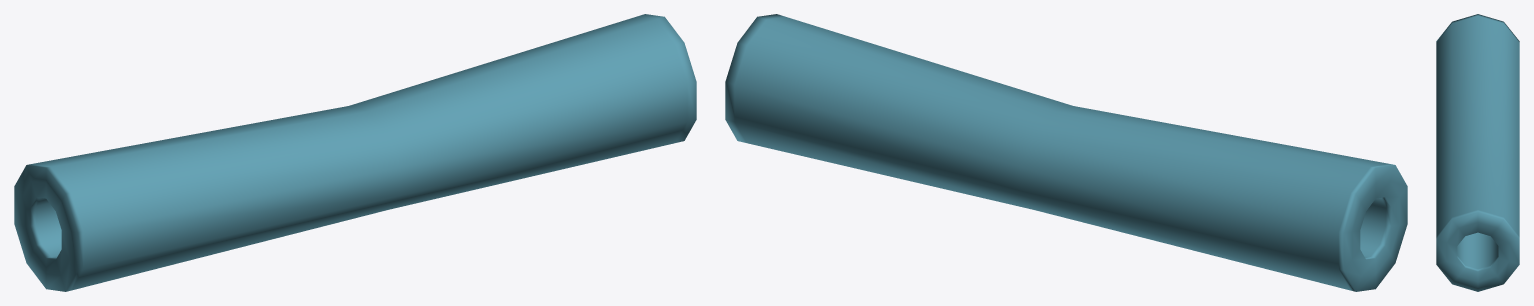
The model's file is Mod_RouleauTissus_LO_V2_JT.fbx.
3 views of the same model, side by side, from view 1: azimuth 30°, elevation 25°; view 2: azimuth 150°, elevation 25°; view 3: azimuth 270°, elevation 25° (orthographic). The views are drawn at different scales.
Visible parts, largest first — view 1: Rouleau_tissus_LO_V2; view 2: Rouleau_tissus_LO_V2; view 3: Rouleau_tissus_LO_V2.
Boxes of the visible parts, x1=… form: Rouleau_tissus_LO_V2: x1=14, y1=14, x2=696, y2=291; Rouleau_tissus_LO_V2: x1=725, y1=14, x2=1407, y2=291; Rouleau_tissus_LO_V2: x1=1436, y1=14, x2=1519, y2=291.
Bounding box in the file's own units: 160 × 30 × 28.53.
